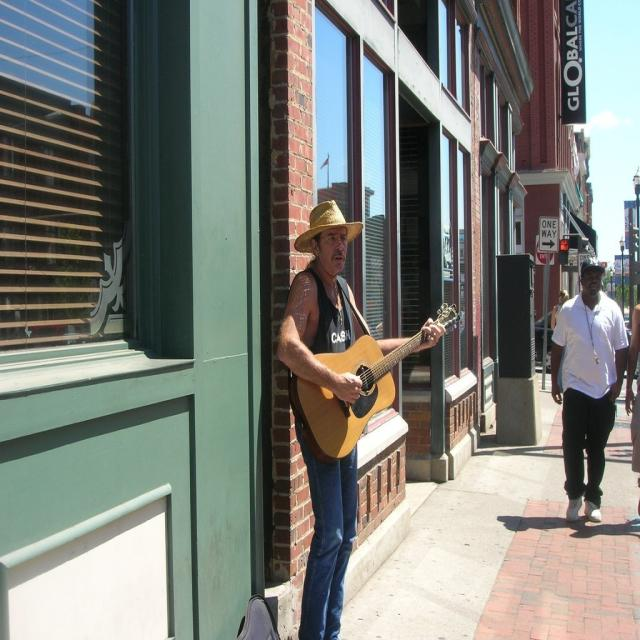guitar: (287, 302, 460, 468)
